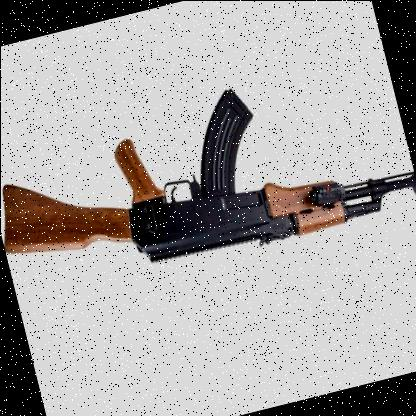rifle: (0, 31, 416, 344)
